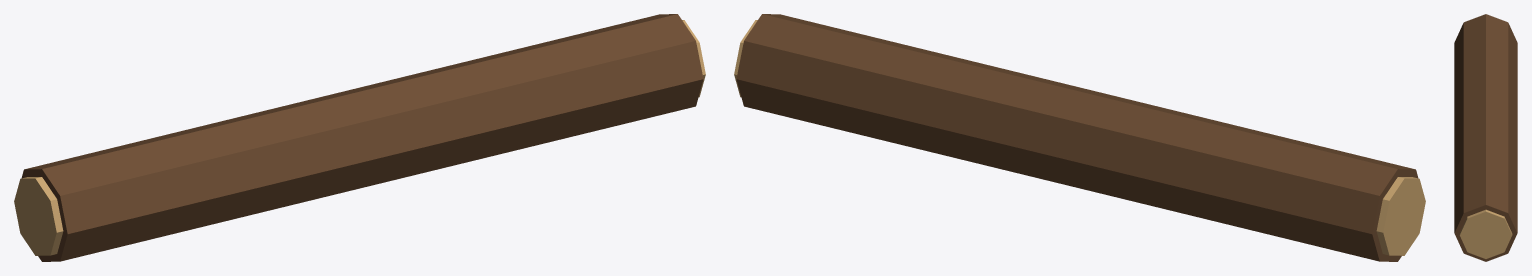
The model's file is log.glb.
3 views of the same model, side by side, from view 1: azimuth 30°, elevation 25°; view 2: azimuth 150°, elevation 25°; view 3: azimuth 270°, elevation 25° (orthographic). The views are drawn at different scales.
Visible parts, largest first — view 1: log; view 2: log; view 3: log.
Boxes of the visible parts, left/top/right/bottom form: log: left=14, top=14, right=705, bottom=261; log: left=734, top=14, right=1425, bottom=261; log: left=1454, top=14, right=1517, bottom=261.
Size of the model in its own units: 0.878 by 0.12 by 0.12.
